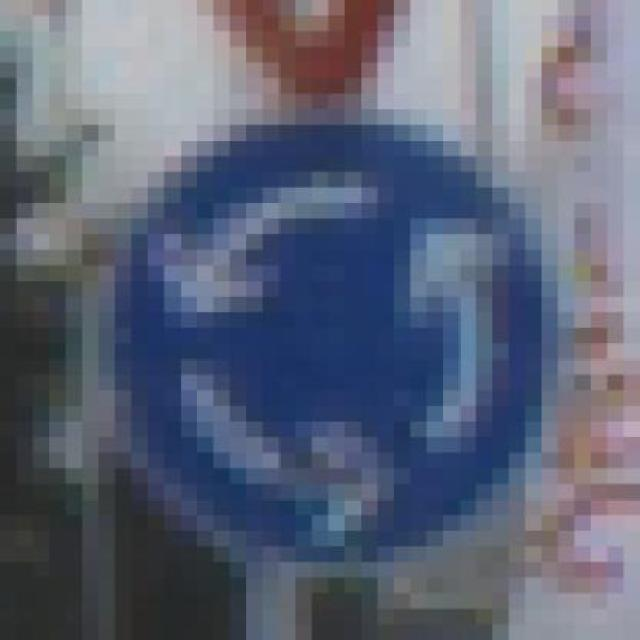Round-About: (16, 124, 607, 594)
